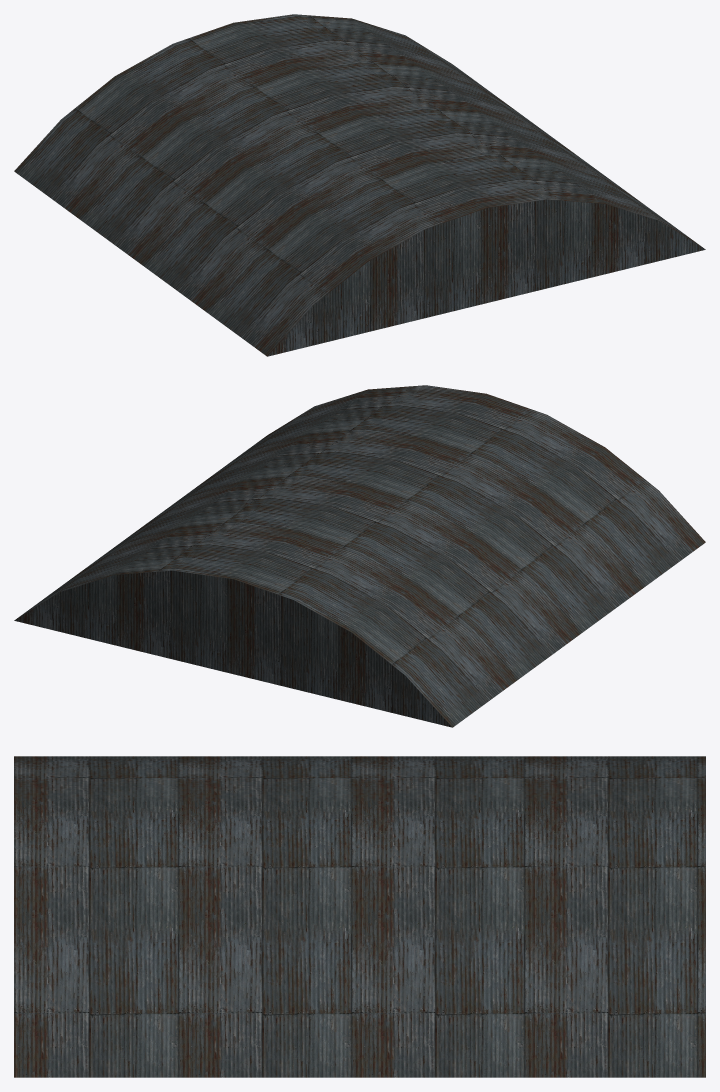
The model's file is warehouse_hs_1_roof_1.obj.
3 renders of one model, top to bottom at view 1: azimuth 30°, elevation 25°; view 2: azimuth 150°, elevation 25°; view 3: azimuth 270°, elevation 25°, orthographic. The views are drawn at different scales.
Parts seen in each view (by area): view 1: warehouse_hs_1_roof_1; view 2: warehouse_hs_1_roof_1; view 3: warehouse_hs_1_roof_1.
Boxes of the visible parts, left/top/right/bottom form: warehouse_hs_1_roof_1: left=14, top=14, right=705, bottom=356; warehouse_hs_1_roof_1: left=14, top=385, right=705, bottom=727; warehouse_hs_1_roof_1: left=14, top=756, right=705, bottom=1077.
Size of the model in its own units: 8 by 1.66 by 8.
